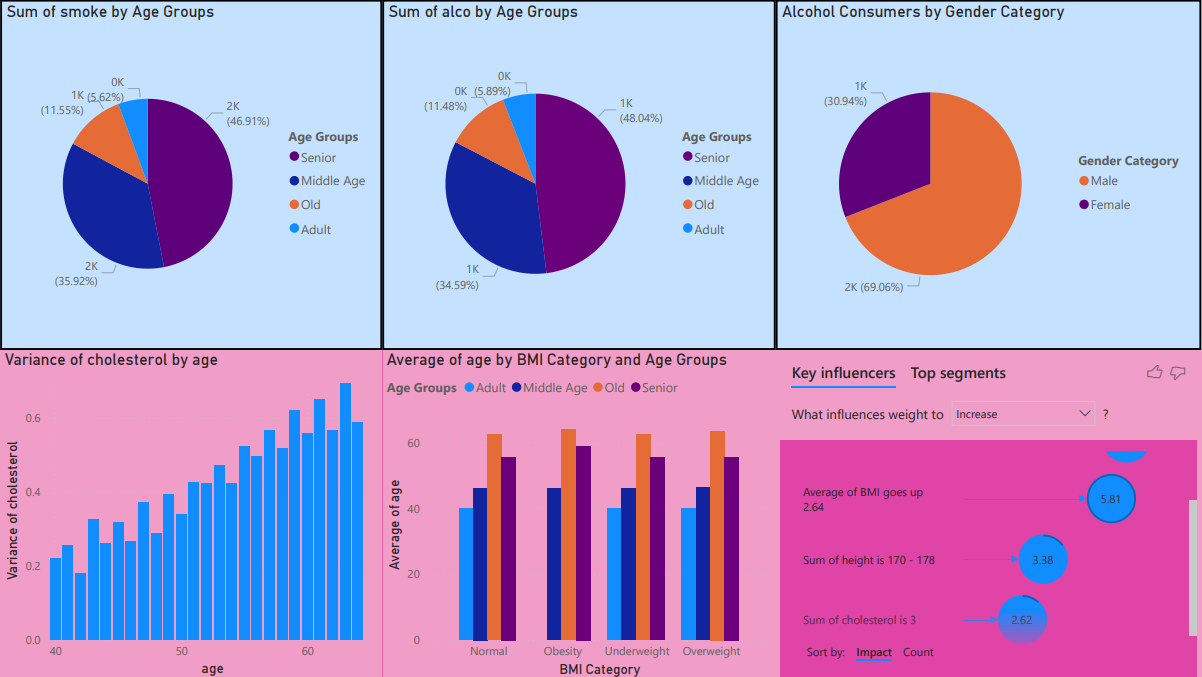

The dashboard page shown, as its layout file describes it:
{"tool":"powerbi","page":{"name":"Page 1","canvas":[1280,720],"ordinal":0},"visuals":[{"type":"pieChart","fields":{"Category":["cardio_df (1).Age Groups"],"Y":["Sum(cardio_df (1).smoke)"]},"box":[9.6,0,404.8,370.5],"z":0},{"type":"clusteredColumnChart","fields":{"Y":["Sum(cardio_df (1).cholesterol)"],"Category":["cardio_df (1).age"]},"box":[10,370,404.4,350],"z":1000},{"type":"pieChart","fields":{"Category":["cardio_df (1).Age Groups"],"Y":["Sum(cardio_df (1).alco)"]},"box":[414.4,0,415.8,370.5],"z":2000},{"type":"pieChart","fields":{"Category":["cardio_df (1).Gender Category"],"Y":["Sum(cardio_df (1).alco)"]},"box":[830.2,0,450.1,370.5],"z":3000},{"type":"clusteredColumnChart","fields":{"Category":["cardio_df (1).Custom"],"Series":["cardio_df (1).Age Groups"],"Y":["Sum(cardio_df (1).alco)"]},"box":[414.4,370.5,415.8,349.9],"z":4000},{"type":"keyDriversVisual","fields":{"ExplainBy":["cardio_df (1).weight","cardio_df (1).Gender Category","cardio_df (1).Age Groups"],"Target":["cardio_df (1).ap_hi"]},"box":[830.2,370.5,450.1,349.9],"z":5000}]}

Visuals, with their boxes in screenshot pixels (x1, y1, x2, y2), scaled from the page's 1280x720 canvas onto the 1202x677 screenshot:
pieChart - cardio_df (1).Age Groups x Sum(cardio_df (1).smoke): crop(9, 0, 389, 348)
clusteredColumnChart - Sum(cardio_df (1).cholesterol) x cardio_df (1).age: crop(9, 348, 389, 676)
pieChart - cardio_df (1).Age Groups x Sum(cardio_df (1).alco): crop(389, 0, 780, 348)
pieChart - cardio_df (1).Gender Category x Sum(cardio_df (1).alco): crop(780, 0, 1201, 348)
clusteredColumnChart - cardio_df (1).Custom x cardio_df (1).Age Groups: crop(389, 348, 780, 676)
keyDriversVisual - cardio_df (1).weight x cardio_df (1).Gender Category: crop(780, 348, 1201, 676)
